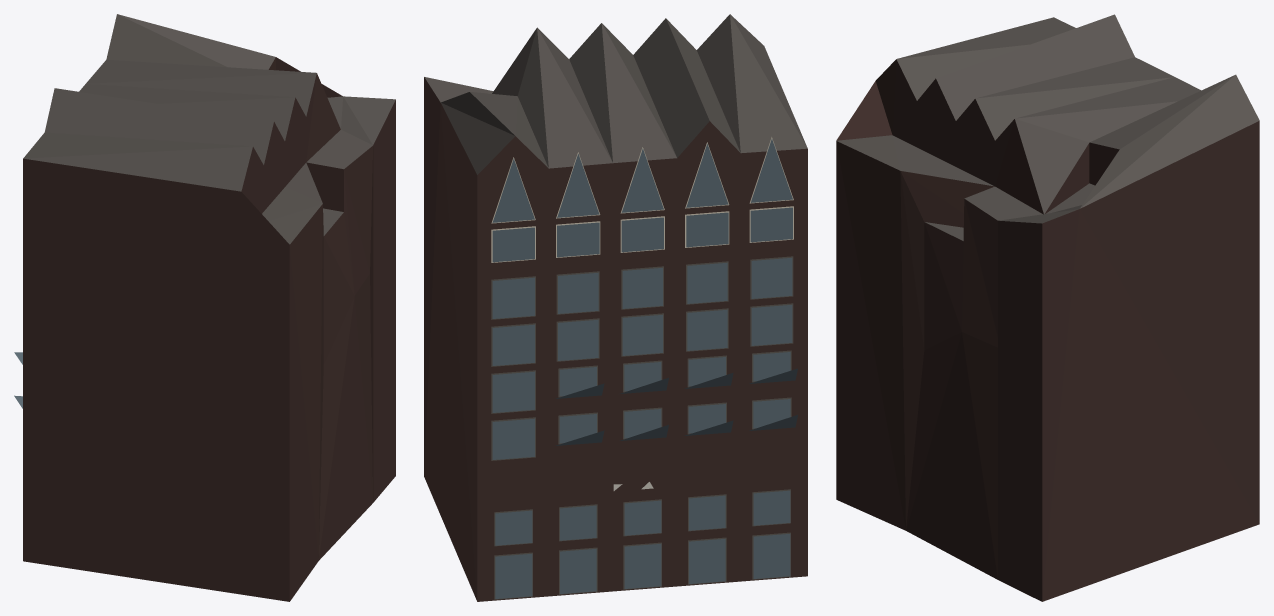
Rendered from haparandaweg-902-950.lod2.glb.
3 renders of one model, left to right at view 1: azimuth 30°, elevation 25°; view 2: azimuth 150°, elevation 25°; view 3: azimuth 270°, elevation 25°, orthographic. The views are drawn at different scales.
Parts seen in each view (by area): view 1: lod2; view 2: lod2; view 3: lod2.
Boxes of the visible parts, left/top/right/bottom form: lod2: left=14, top=14, right=395, bottom=601; lod2: left=424, top=14, right=807, bottom=601; lod2: left=836, top=14, right=1259, bottom=601.
Size of the model in its own units: 26.9 by 30.52 by 26.76.
